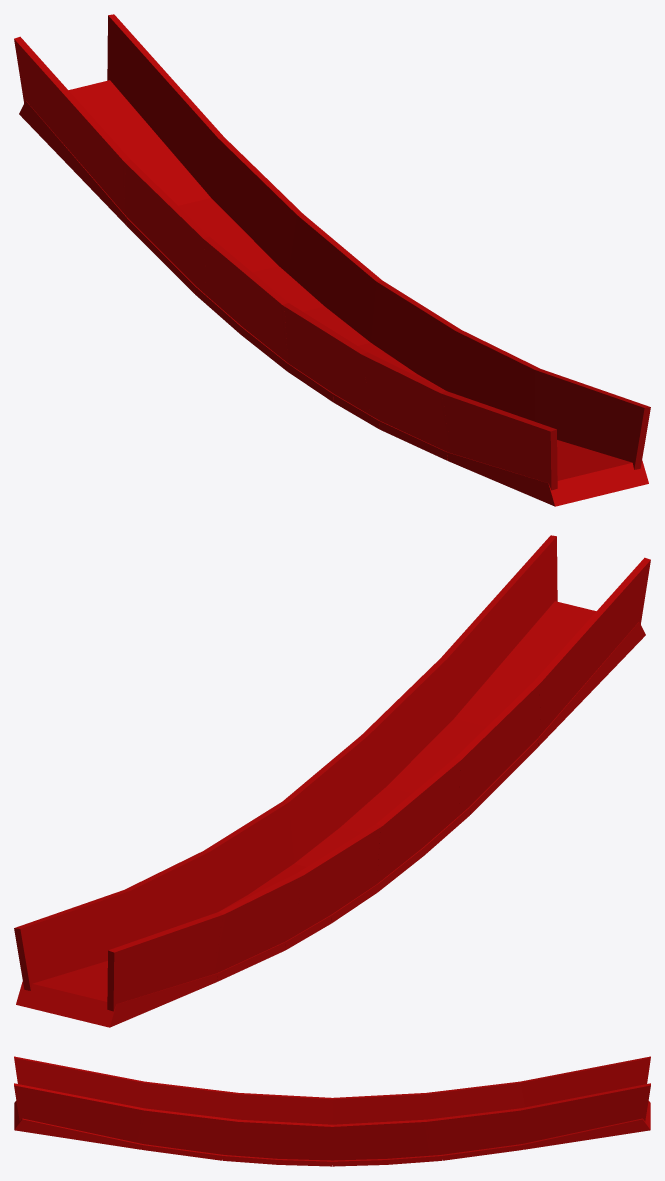
Rendered from SM_Bld_RopeBridge_01_Collision.gltf.
The picture shows the model from 3 angles, top to bottom: view 1: azimuth 30°, elevation 25°; view 2: azimuth 150°, elevation 25°; view 3: azimuth 270°, elevation 25°; orthographic projection. The views are drawn at different scales.
Parts seen in each view (by area): view 1: SM_Bld_RopeBridge_01_Collision; view 2: SM_Bld_RopeBridge_01_Collision; view 3: SM_Bld_RopeBridge_01_Collision.
Part boxes in pixels (left/top/right/bottom): SM_Bld_RopeBridge_01_Collision: left=14, top=14, right=650, bottom=506; SM_Bld_RopeBridge_01_Collision: left=14, top=535, right=650, bottom=1027; SM_Bld_RopeBridge_01_Collision: left=14, top=1056, right=650, bottom=1166.
Bounding box in the file's own units: 1.66 × 2.19 × 15.42.
